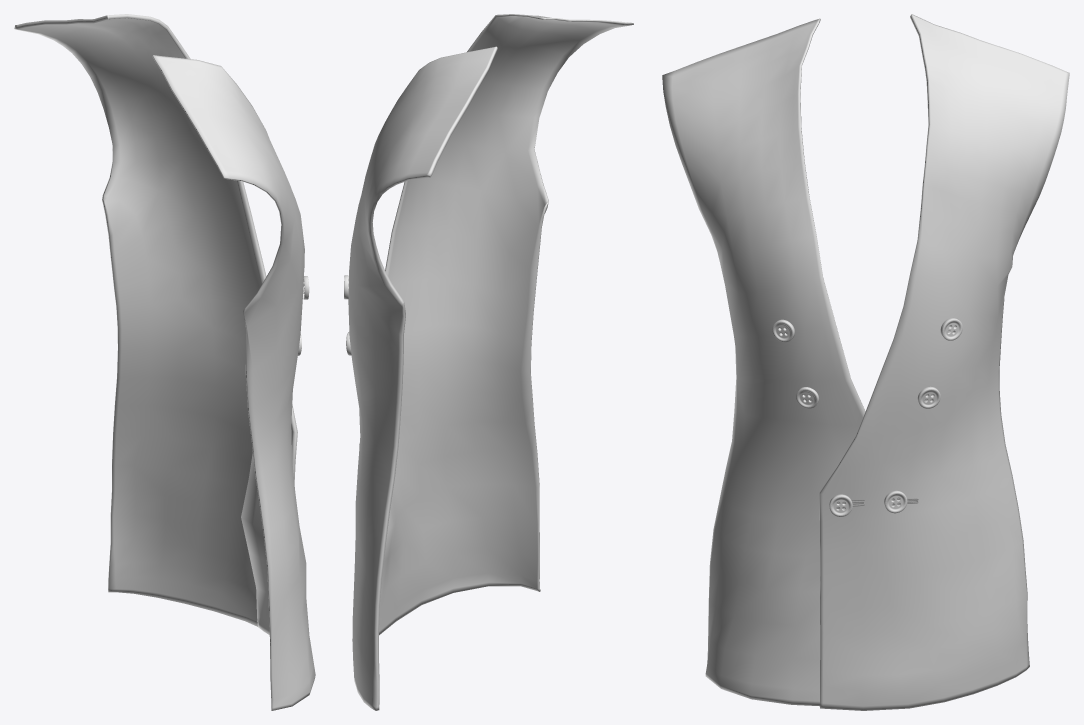
The picture shows the model from 3 angles, left to right: view 1: azimuth 30°, elevation 25°; view 2: azimuth 150°, elevation 25°; view 3: azimuth 270°, elevation 25°; orthographic projection.
Visible parts, largest first — view 1: SM_J_FrontB6*1; view 2: SM_J_FrontB6*1; view 3: SM_J_FrontB6*1, SM_J_B_FrontB6*1.
Part boxes in pixels (x1=…): SM_J_FrontB6*1: x1=14, y1=14, x2=315, y2=710; SM_J_FrontB6*1: x1=348, y1=14, x2=633, y2=710; SM_J_FrontB6*1: x1=662, y1=14, x2=1069, y2=710; SM_J_B_FrontB6*1: x1=772, y1=317, x2=962, y2=516.
Bounding box in the file's own units: 1.07 × 4.04 × 2.37.
4 materials, 1 textured.
